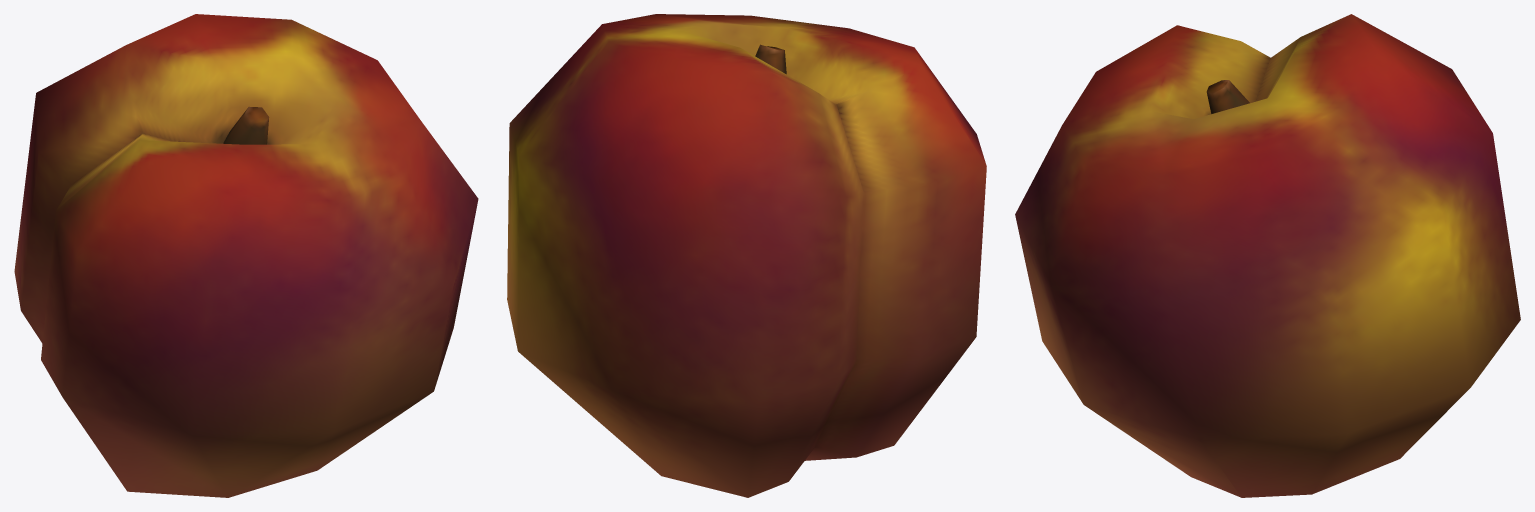
The model's file is peach.fbx.
The picture shows the model from 3 angles, left to right: view 1: azimuth 30°, elevation 25°; view 2: azimuth 150°, elevation 25°; view 3: azimuth 270°, elevation 25°; orthographic projection. The views are drawn at different scales.
Parts seen in each view (by area): view 1: peach; view 2: peach; view 3: peach.
Boxes of the visible parts, x1,y1,x2,y2 form: peach: [14, 14, 478, 497]; peach: [507, 14, 986, 497]; peach: [1015, 14, 1520, 497].
Bounding box in the file's own units: 24.92 × 24.99 × 26.58.
